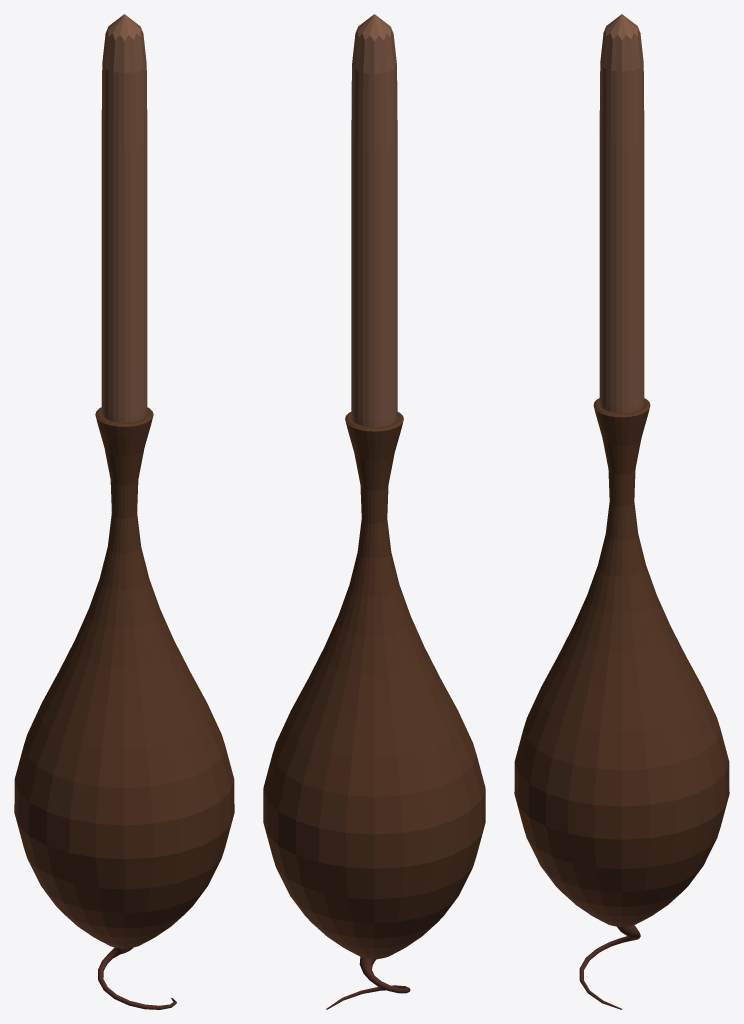
The model's file is Wand 919.glb.
3 renders of one model, left to right at view 1: azimuth 30°, elevation 25°; view 2: azimuth 150°, elevation 25°; view 3: azimuth 270°, elevation 25°, orthographic. The views are drawn at different scales.
Visible parts, largest first — view 1: GeneratedWand; view 2: GeneratedWand; view 3: GeneratedWand.
Part boxes in pixels (<box>): GeneratedWand: <box>14,14,234,1009</box>; GeneratedWand: <box>263,14,485,1009</box>; GeneratedWand: <box>514,14,729,1009</box>.
Bounding box in the file's own units: 0.1026 × 0.5123 × 0.1026.
